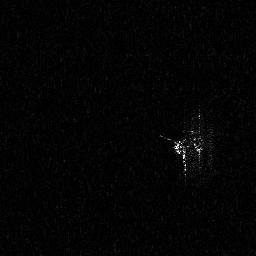ship: (160, 104, 221, 185)
